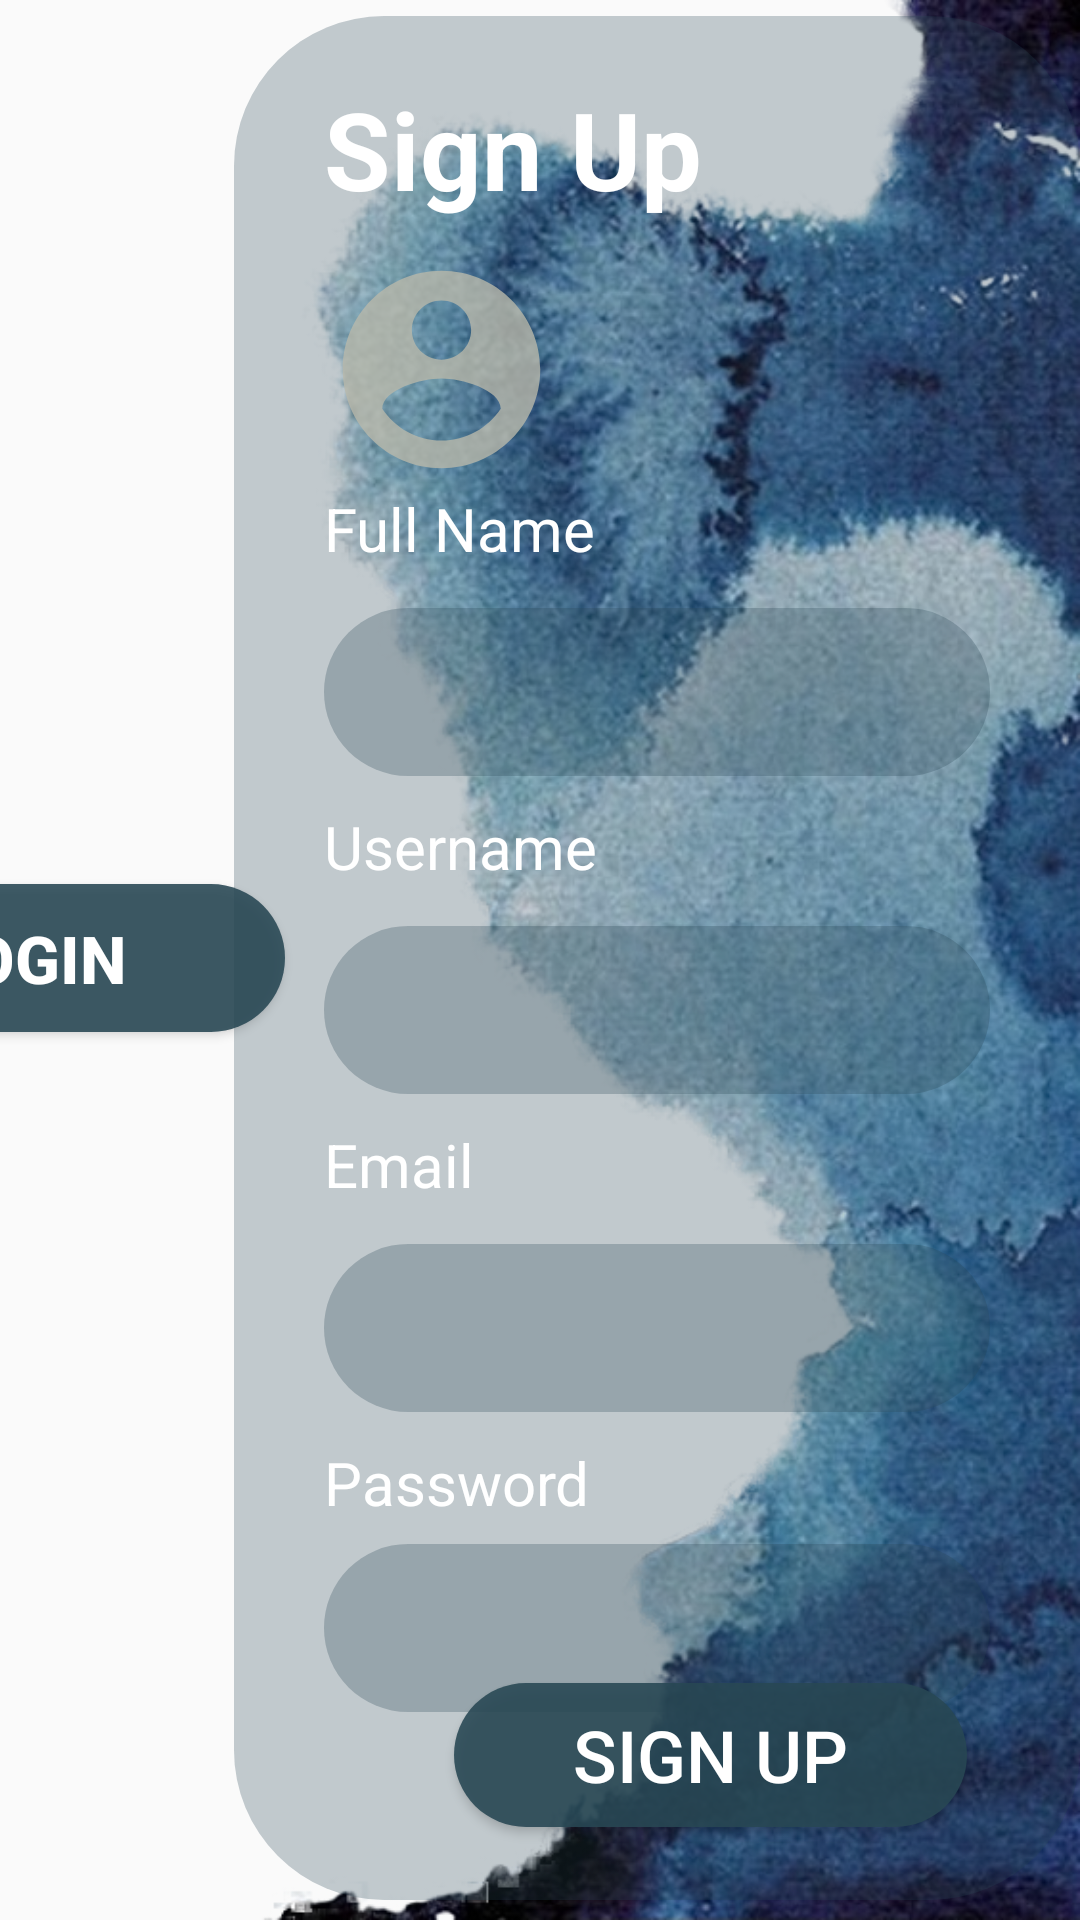

Where to tap for icons on this 1080*1920 app screen, as point (x, y):
profile: point (441, 369)
